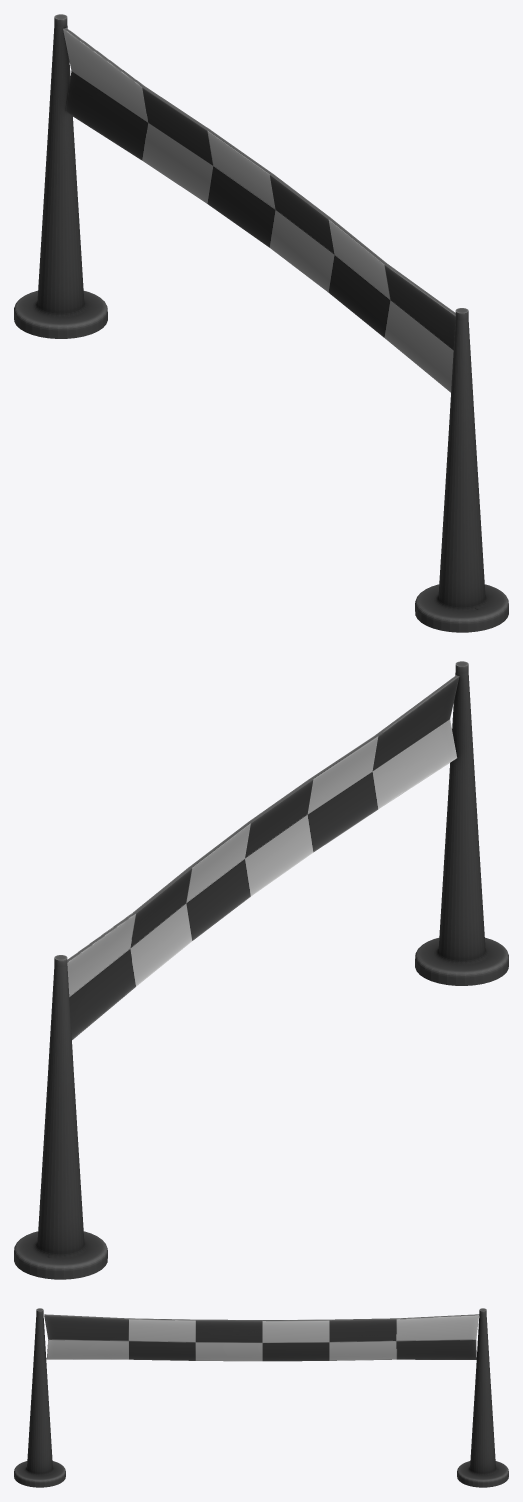
The model's file is 3D_Finish.FBX.
3 renders of one model, top to bottom at view 1: azimuth 30°, elevation 25°; view 2: azimuth 150°, elevation 25°; view 3: azimuth 270°, elevation 25°, orthographic. The views are drawn at different scales.
Visible parts, largest first — view 1: 3D_Finish; view 2: 3D_Finish; view 3: 3D_Finish.
Part boxes in pixels (left/top/right/bottom): 3D_Finish: left=14, top=14, right=508, bottom=632; 3D_Finish: left=14, top=661, right=508, bottom=1279; 3D_Finish: left=14, top=1308, right=508, bottom=1487.
Bounding box in the file's own units: 23.29 × 82.55 × 222.
